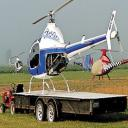helicopter: (27, 1, 124, 95), (92, 50, 128, 81), (10, 52, 26, 78)
